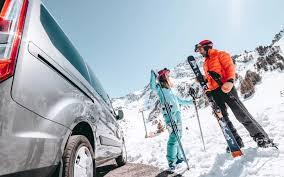skis: (186, 54, 242, 159), (156, 157, 194, 177)
